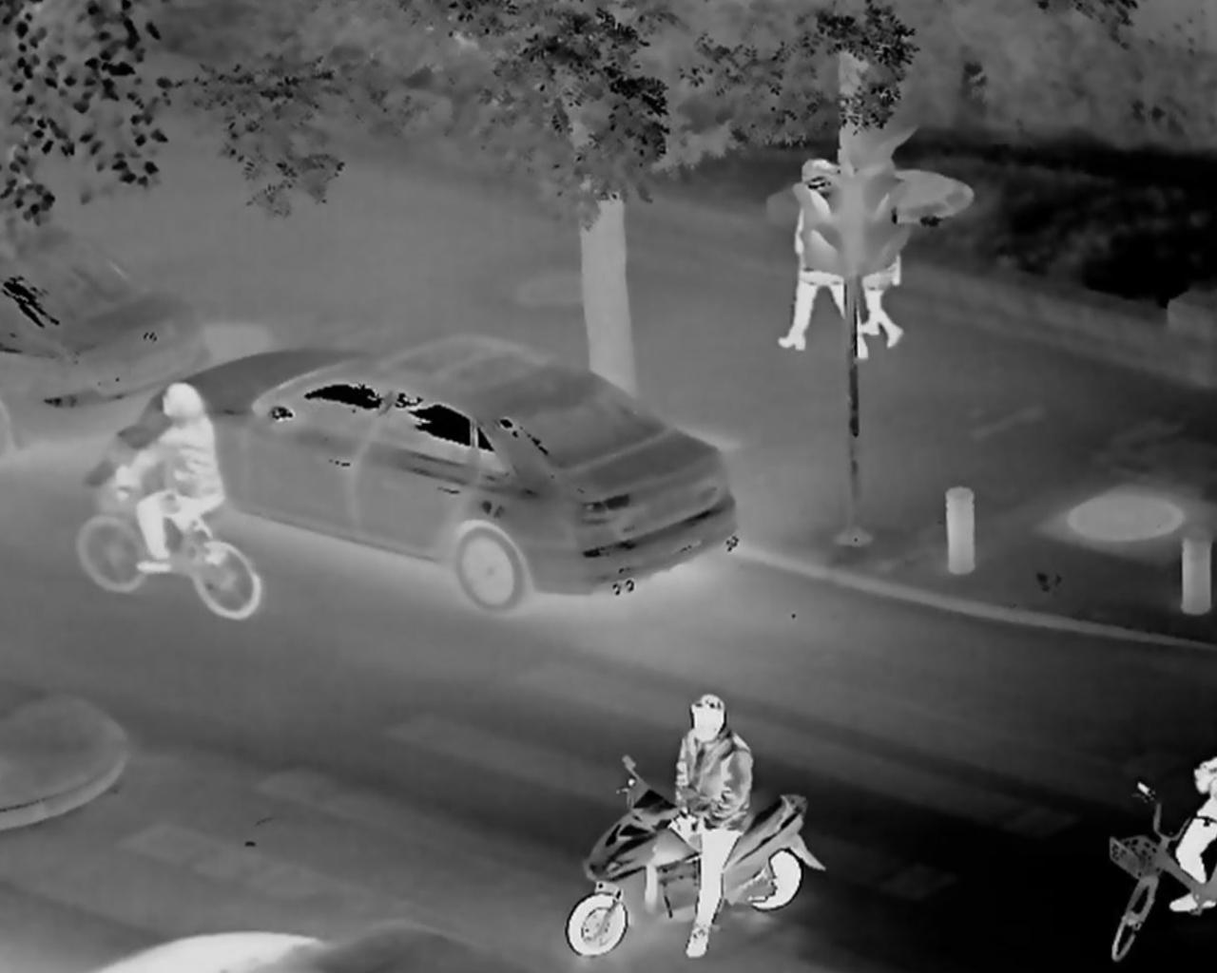person: (658, 686, 757, 962), (121, 381, 229, 595), (794, 152, 863, 360), (1180, 732, 1217, 920), (864, 189, 907, 347)
